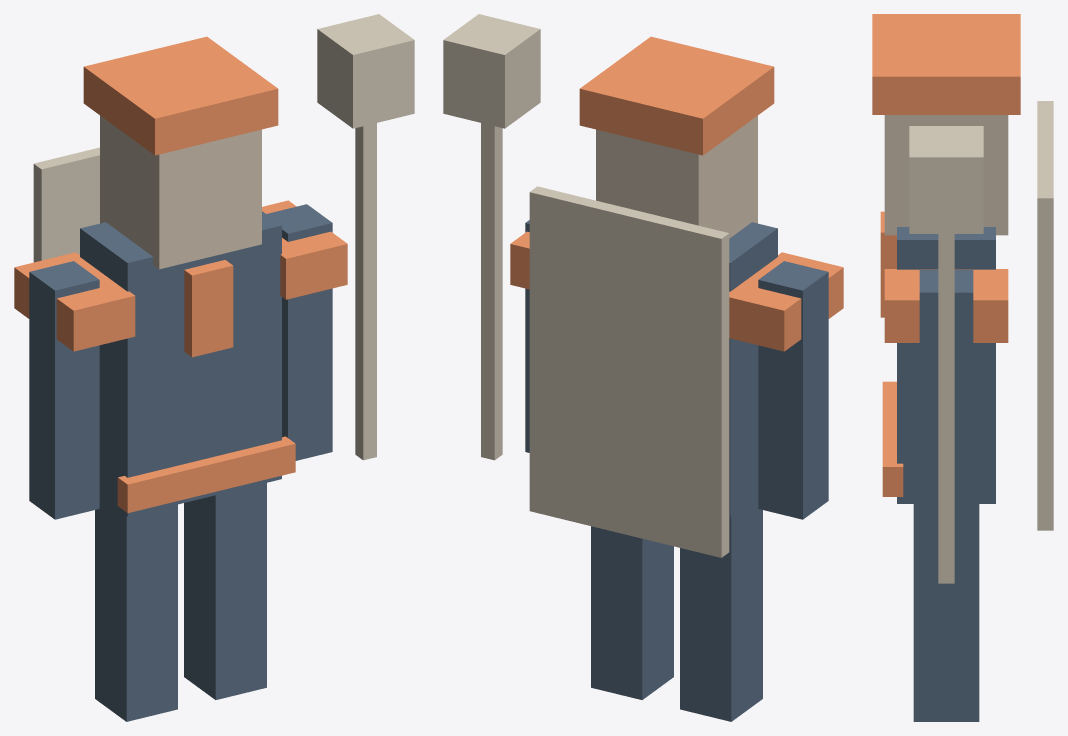
File: 09_nyra_voxmere_cartographer_of_troop.glb
The picture shows the model from 3 angles, left to right: view 1: azimuth 30°, elevation 25°; view 2: azimuth 150°, elevation 25°; view 3: azimuth 270°, elevation 25°; orthographic projection. The views are drawn at different scales.
Visible parts, largest first — view 1: Nyra Voxmere, Cartographer of Troop; view 2: Nyra Voxmere, Cartographer of Troop; view 3: Nyra Voxmere, Cartographer of Troop.
Part boxes in pixels (box(x1,y1,x2,y2)): Nyra Voxmere, Cartographer of Troop: box(14, 14, 414, 721); Nyra Voxmere, Cartographer of Troop: box(443, 14, 843, 721); Nyra Voxmere, Cartographer of Troop: box(872, 14, 1053, 721).
Bounding box in the file's own units: 1.01 × 1.68 × 0.4307.
